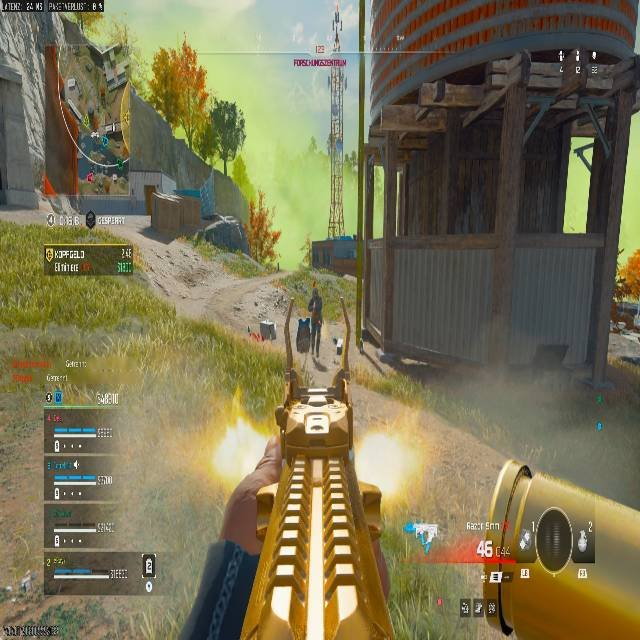player: (83, 207, 98, 229)
